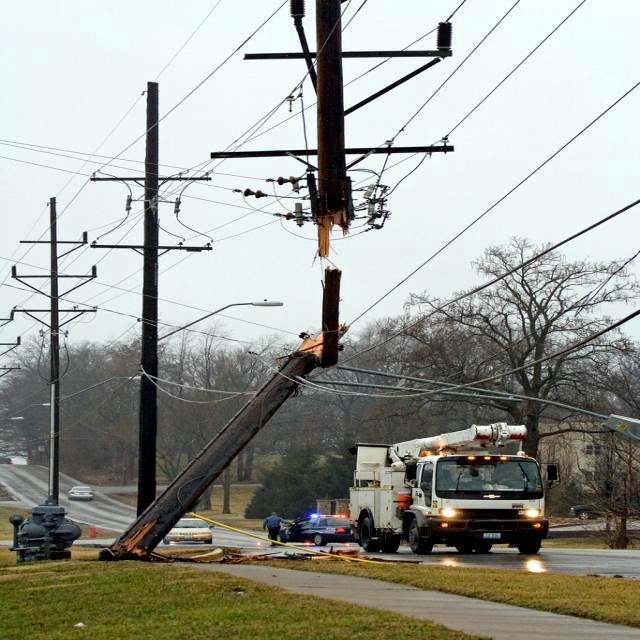Broken Pole: (94, 270, 348, 558), (192, 0, 424, 248)
